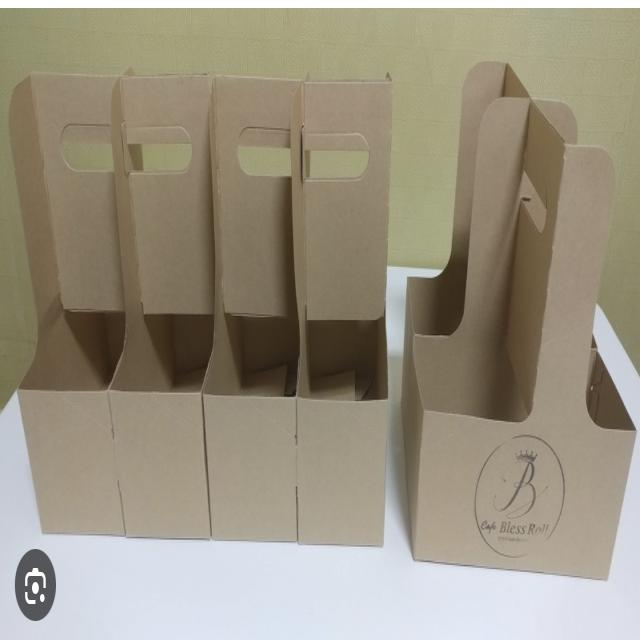biodegradable: (399, 55, 636, 607), (203, 59, 394, 576), (11, 52, 207, 546)
